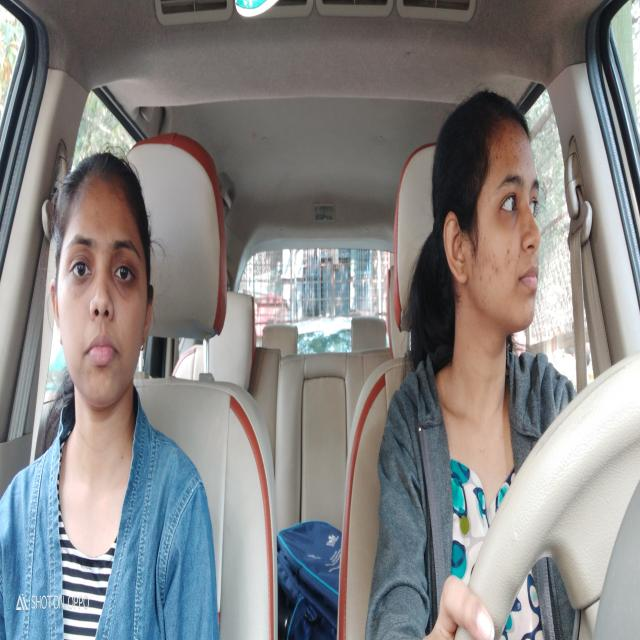LeftRight: (433, 98, 547, 352)
person: (50, 149, 157, 421)
